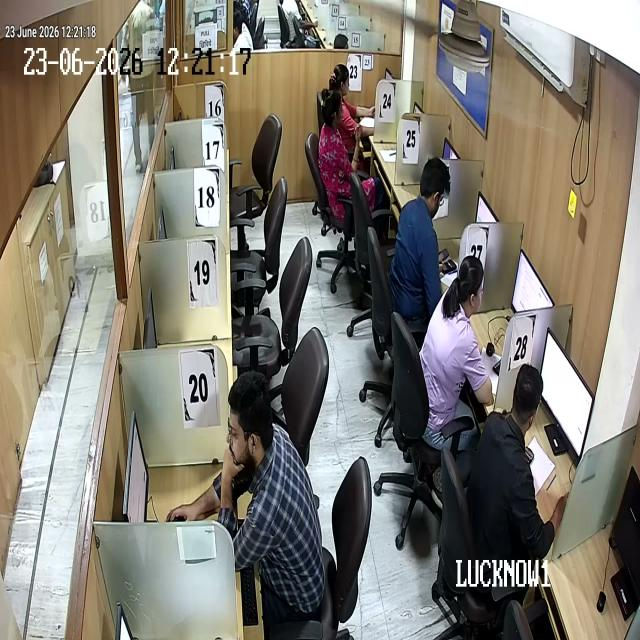phone: (436, 234, 451, 268)
